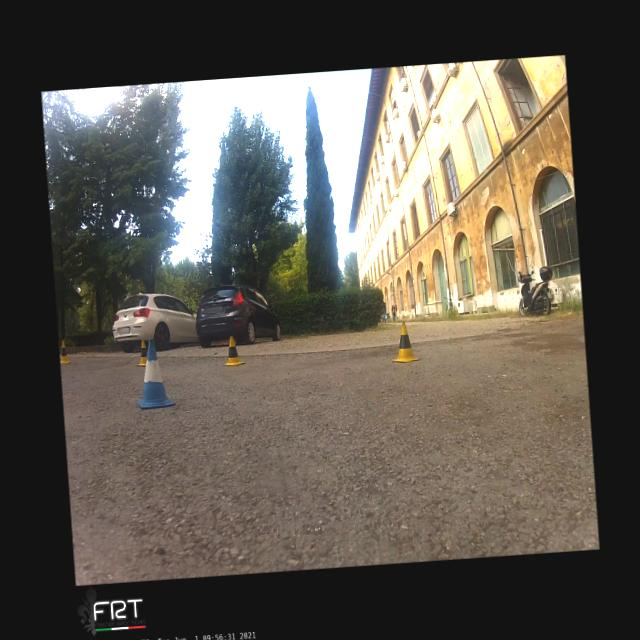blue_cone: (133, 338, 175, 408)
yellow_cone: (388, 320, 419, 363), (221, 335, 245, 366), (135, 340, 148, 366), (58, 339, 70, 364)
